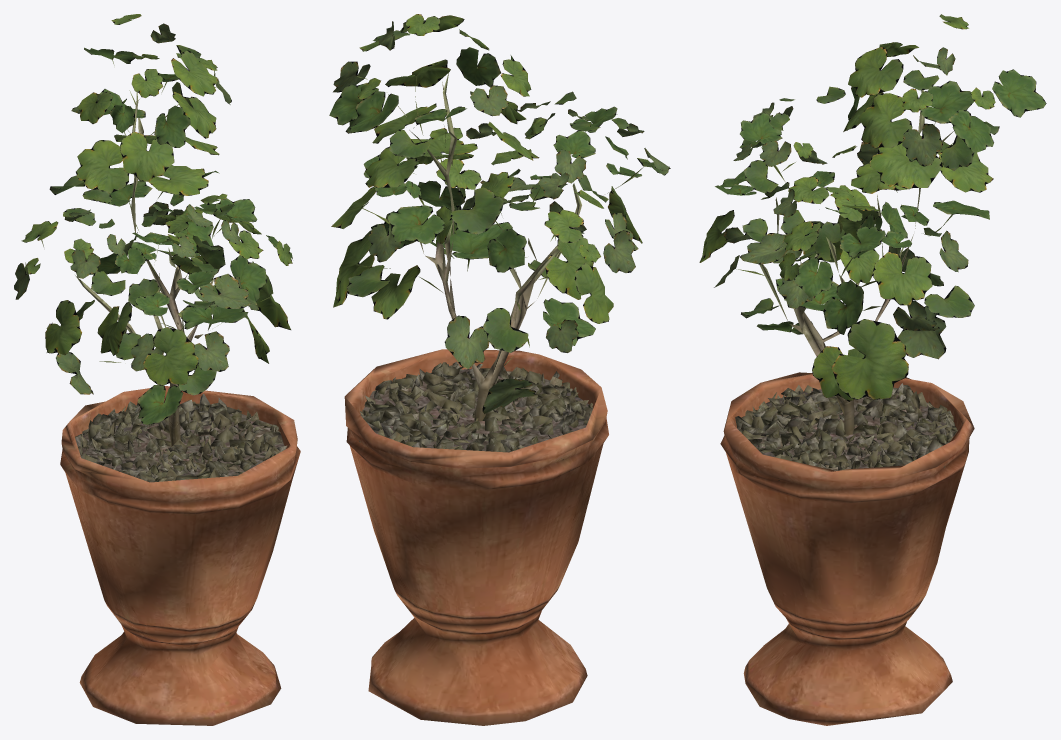
File: potted_plant_01.glb
3 views of the same model, side by side, from view 1: azimuth 30°, elevation 25°; view 2: azimuth 150°, elevation 25°; view 3: azimuth 270°, elevation 25° (orthographic). The views are drawn at different scales.
Parts seen in each view (by area): view 1: potted_plant_01_stem, potted_plant_01_leaves; view 2: potted_plant_01_stem, potted_plant_01_leaves; view 3: potted_plant_01_stem, potted_plant_01_leaves.
Boxes of the visible parts, bbox=[...] form: potted_plant_01_stem: bbox=[60, 92, 300, 725]; potted_plant_01_leaves: bbox=[14, 14, 292, 424]; potted_plant_01_stem: bbox=[344, 72, 608, 725]; potted_plant_01_leaves: bbox=[329, 14, 670, 413]; potted_plant_01_stem: bbox=[720, 90, 974, 725]; potted_plant_01_leaves: bbox=[699, 14, 1046, 401].
Size of the model in its own units: 0.5866 by 1.34 by 0.6336.
Materials: 2 (2 with a texture image).
